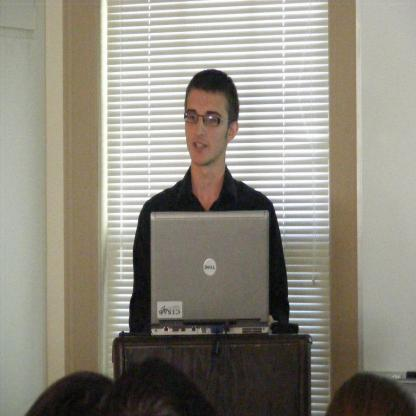board: (145, 213, 272, 337)
